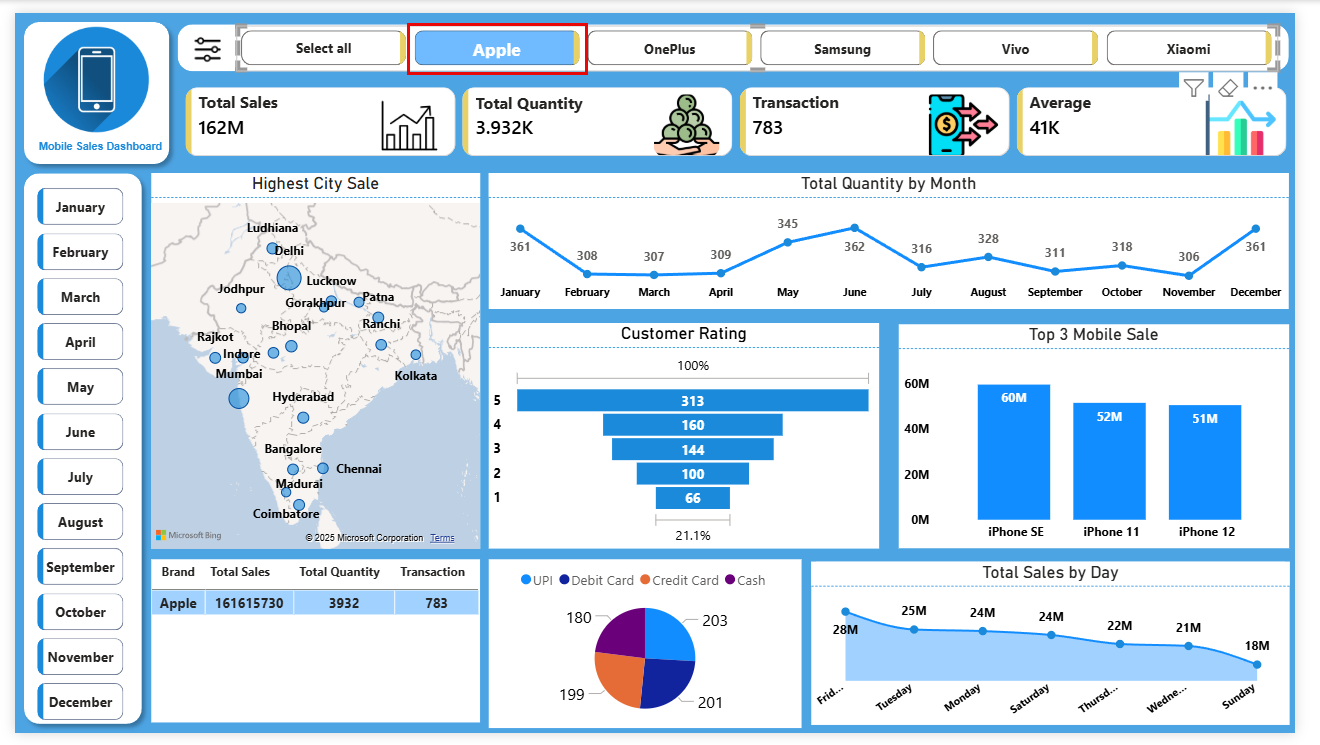

The dashboard page shown, as its layout file describes it:
{"tool":"powerbi","page":{"name":"Page 1","canvas":[1280,720],"ordinal":0},"visuals":[{"type":"shape","box":[0,0,163.1,160],"z":0,"group":"g1"},{"type":"image","box":[12.4,14,138.1,105.4],"z":1000,"group":"g1"},{"type":"shape","box":[0,151.4,135.7,568.6],"z":2000},{"type":"advancedSlicerVisual","fields":{"Values":["Sales Data.Date .Variation.Date Hierarchy.Month"]},"box":[17.1,170,100,550],"z":3000},{"type":"cardVisual","fields":{"Data":["Sales Data.Total Sales","Sales Data.Total Quantity","Sales Data.Transaction","Sales Data.Average"]},"box":[162.9,65.7,1117.1,85.7],"z":4000},{"type":"map","title":"Highest City Sale","fields":{"Category":["Sales Data.City"],"Size":["Sales Data.Total Sales"]},"box":[135.7,160,328.6,375.7],"z":5000},{"type":"lineChart","fields":{"Y":["Sales Data.Total Quantity"],"Category":["Sales Data.Date .Variation.Date Hierarchy.Month","Sales Data.Date .Variation.Date Hierarchy.Day"]},"box":[474.3,160,800,135.7],"z":6000},{"type":"clusteredColumnChart","title":"Top 3 Mobile Sale","fields":{"Category":["Sales Data.Mobile Model"],"Y":["Sales Data.Total Sales"]},"box":[884.3,311.4,390,224.3],"z":7000},{"type":"pieChart","fields":{"Y":["Sales Data.Transaction"],"Category":["Sales Data.Payment Method"]},"box":[474.3,545.7,312.9,168.6],"z":8000},{"type":"funnel","title":"Customer Rating","fields":{"Category":["Sales Data.Customer Ratings"],"Y":["CountNonNull(Sales Data.Customer Ratings)"]},"box":[474.3,310,390,225.7],"z":9000},{"type":"areaChart","title":"Total Sales by Day","fields":{"Y":["Sales Data.Total Sales"],"Category":["Sales Data.Day Name"]},"box":[795.7,548.6,478.6,162.9],"z":10000},{"type":"tableEx","fields":{"Values":["Sales Data.Brand","Sales Data.Total Sales","Sales Data.Total Quantity","Sales Data.Transaction"]},"box":[135.7,545.7,328.6,162.9],"z":11000},{"type":"textbox","box":[6.9,118.1,158.8,33],"z":12000,"group":"g1"},{"type":"shape","box":[162.9,11.4,1111.4,47.1],"z":13000},{"type":"image","box":[177.1,15.7,30,40],"z":14000},{"type":"advancedSlicerVisual","fields":{"Values":["Sales Data.Brand"]},"box":[221.4,12.9,1042.9,45.7],"z":15000},{"type":"group","id":"g1","title":"Group 1","box":[0,0,165.7,160],"z":18001}]}

Visuals, with their boxes in screenshot pixels (x1, y1, x2, y2), scaled from the page's 1280x720 canvas onto the 1320x745 screenshot:
shape: Rect(0, 0, 168, 166)
image: Rect(13, 14, 155, 124)
shape: Rect(0, 157, 140, 744)
advancedSlicerVisual - Sales Data.Date .Variation.Date Hierarchy.Month: Rect(18, 176, 121, 744)
cardVisual - Sales Data.Total Sales x Sales Data.Total Quantity: Rect(168, 68, 1319, 157)
"Highest City Sale" map: Rect(140, 166, 479, 554)
lineChart - Sales Data.Total Quantity x Sales Data.Date .Variation.Date Hierarchy.Month: Rect(489, 166, 1314, 306)
"Top 3 Mobile Sale" clusteredColumnChart: Rect(912, 322, 1314, 554)
pieChart - Sales Data.Transaction x Sales Data.Payment Method: Rect(489, 565, 812, 739)
"Customer Rating" funnel: Rect(489, 321, 891, 554)
"Total Sales by Day" areaChart: Rect(821, 568, 1314, 736)
tableEx - Sales Data.Brand x Sales Data.Total Sales: Rect(140, 565, 479, 733)
textbox: Rect(7, 122, 171, 156)
shape: Rect(168, 12, 1314, 61)
image: Rect(183, 16, 214, 58)
advancedSlicerVisual - Sales Data.Brand: Rect(228, 13, 1304, 61)
"Group 1" group: Rect(0, 0, 171, 166)
